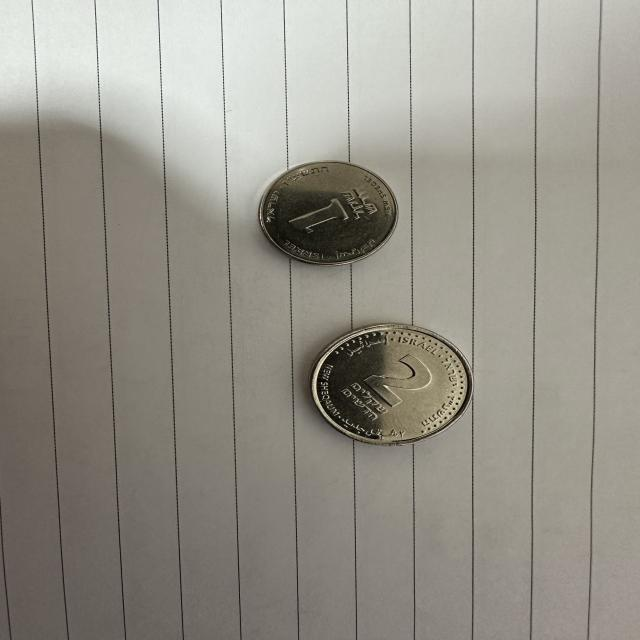1-shekel: (260, 159, 402, 268)
2-shekel: (305, 321, 477, 448)
